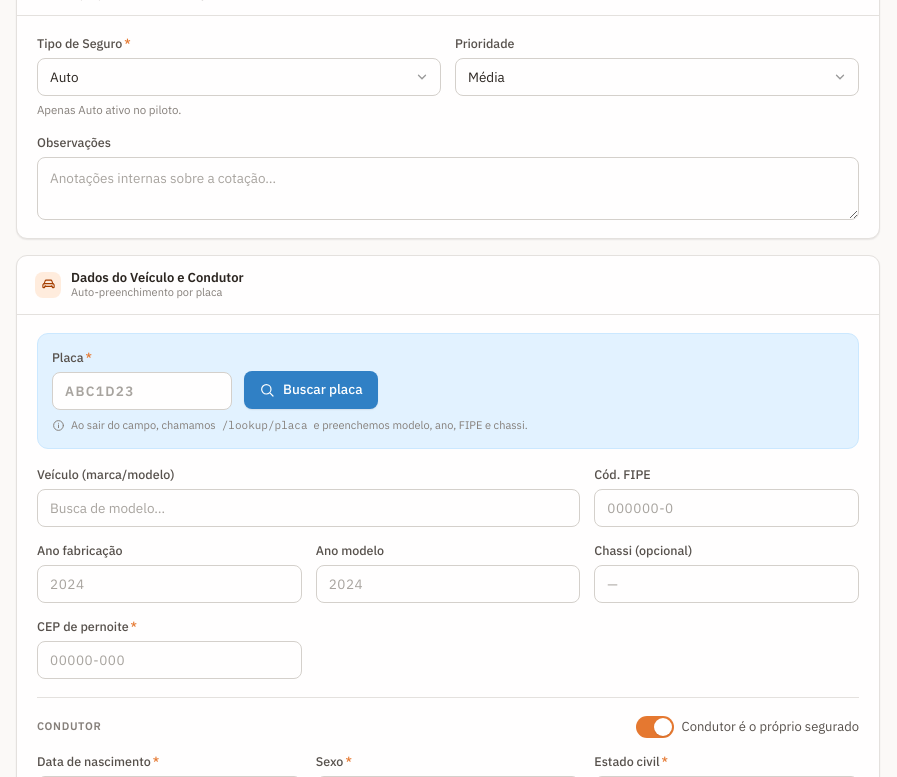
Test: NovaCotacao › lookup de placa preenche o veículo ao sair do campo
(page scrolled)
In the field named "Placa": (142, 391) [52, 372, 232, 410], type "JCU9D37"
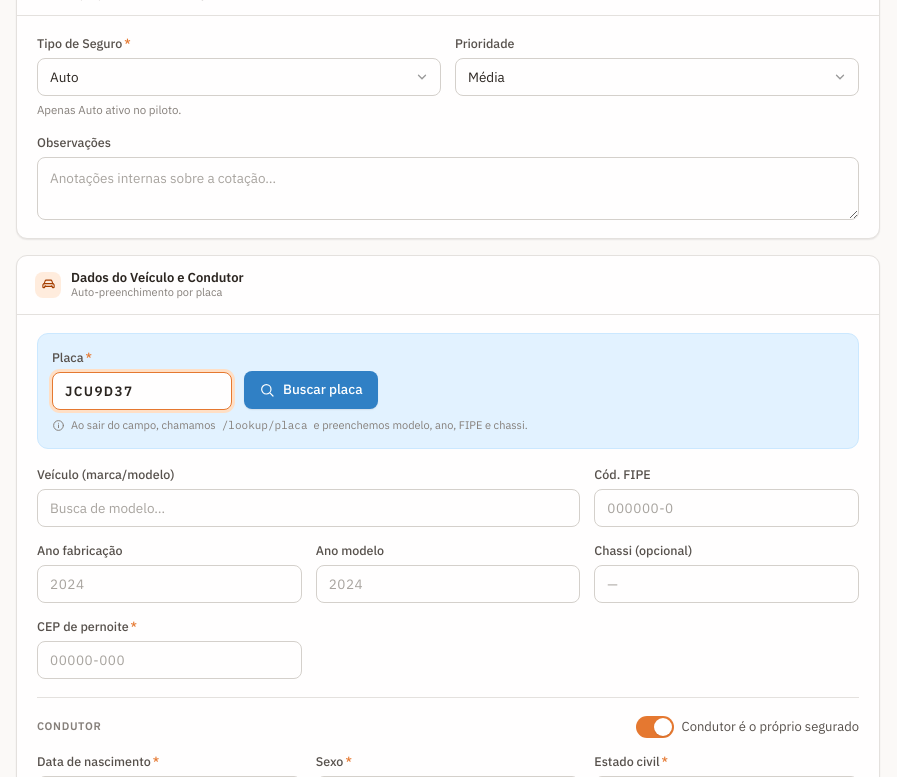
Leave the field named "Placa", box [52, 372, 232, 410]
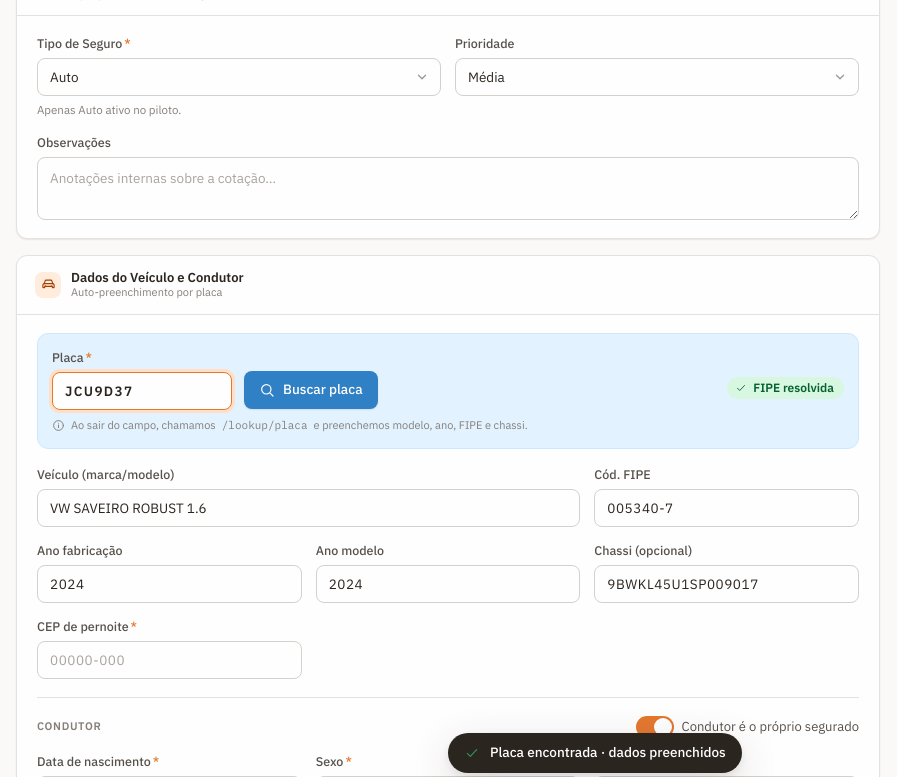
Result: the field showing "VW SAVEIRO ROBUST 1.6" is shown at [37, 489, 580, 527]
Result: the field named "Cód. FIPE" holds "005340-7" at [594, 489, 859, 527]
